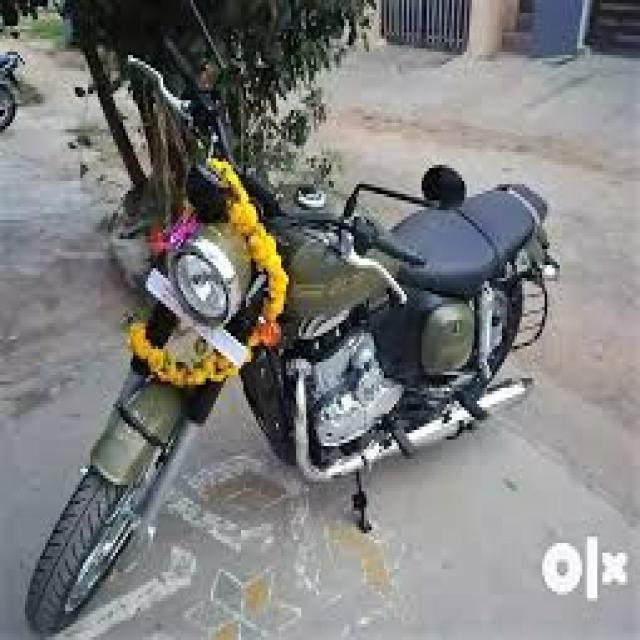bike: (30, 120, 555, 614)
